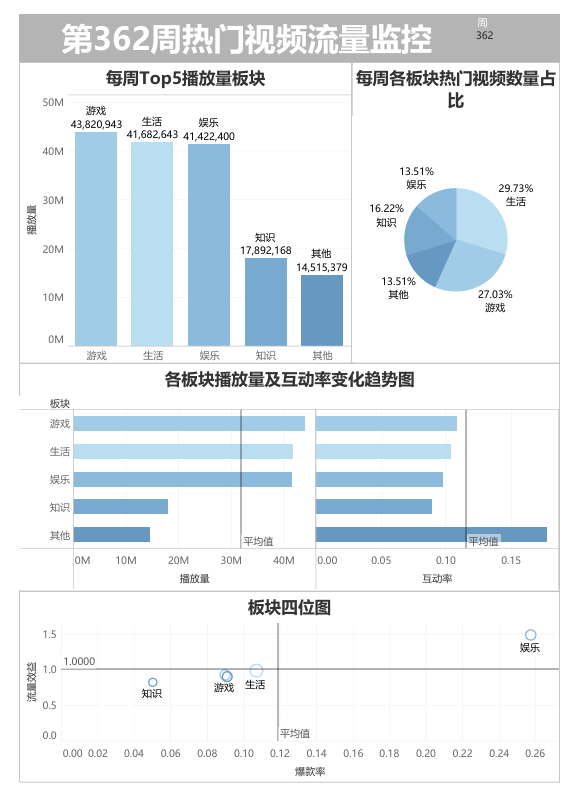

What the dashboard file says about the page in this screenshot:
{"tool":"tableau","page":{"name":"仪表板 1","canvas":[827,1169],"ordinal":0},"visuals":[{"type":"text","box":[8,8,683.3,72]},{"type":"parameter","param":"[Parameters].[参数 1]","box":[691.2,8,127.8,72]},{"type":"worksheet","title":"每周Top5播放量板块","mark":"Bar","rows":["播放量"],"cols":["Calculation_1611725766918610953","分区"],"box":[8,80,499,452.1]},{"type":"worksheet","title":" 每周各板块热门视频占比","mark":"Pie","box":[507,80,312,452.1]},{"type":"worksheet","title":"各板块播放量及互动率变化趋势图","mark":"Bar","rows":["分区"],"cols":["Calculation_1611725766918610953","播放量","Calculation_1611725766875328514"],"box":[8,532.1,811,341.6]},{"type":"worksheet","title":"板块四位图","mark":"Automatic","rows":["Calculation_1611725766898163716"],"cols":["Calculation_1611725766853427201"],"box":[8,873.8,811,287.2]}]}

Visuals, with their boxes in screenshot pixels (x1, y1, x2, y2), scaled from the page's 827x1169 canvas onto the 575x795 screenshot:
text: bbox=(6, 5, 481, 54)
parameter: bbox=(481, 5, 569, 54)
"每周Top5播放量板块" worksheet (Bar marks): bbox=(6, 54, 353, 362)
" 每周各板块热门视频占比" worksheet (Pie marks): bbox=(353, 54, 569, 362)
"各板块播放量及互动率变化趋势图" worksheet (Bar marks): bbox=(6, 362, 569, 594)
"板块四位图" worksheet: bbox=(6, 594, 569, 790)
